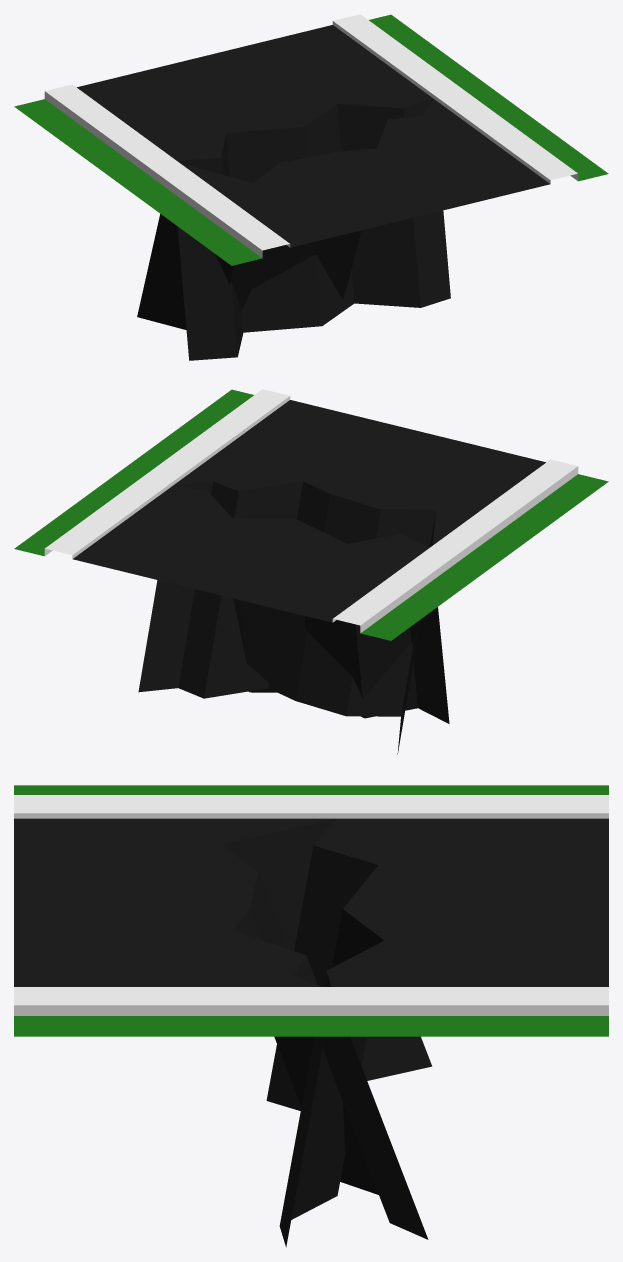
Rendered from roadStraightBrokenRamp.fbx.
3 renders of one model, top to bottom at view 1: azimuth 30°, elevation 25°; view 2: azimuth 150°, elevation 25°; view 3: azimuth 270°, elevation 25°, orthographic. The views are drawn at different scales.
Visible parts, largest first — view 1: roadStraightBrokenRamp; view 2: roadStraightBrokenRamp; view 3: roadStraightBrokenRamp.
Part boxes in pixels (x1,y1,x2,y2): roadStraightBrokenRamp: (14, 14, 608, 360); roadStraightBrokenRamp: (14, 389, 608, 754); roadStraightBrokenRamp: (14, 785, 608, 1247).
Bounding box in the file's own units: 1000 × 1000 × 484.
